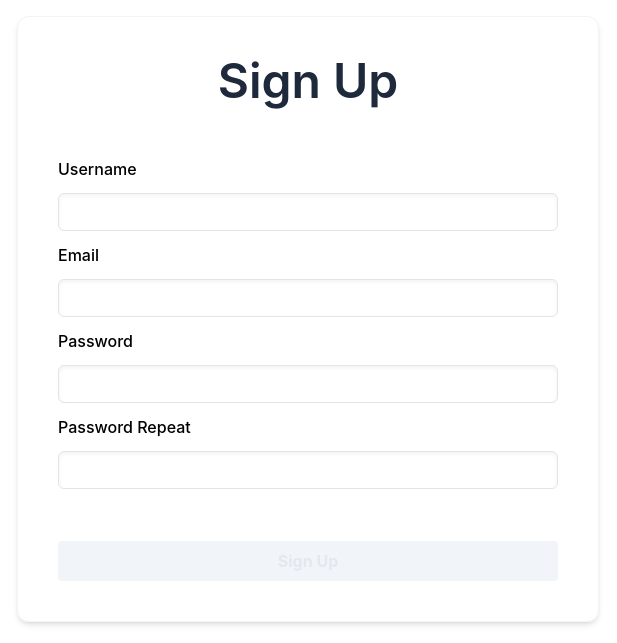
Scenario: Sign Up Page › interactions › enables the button when password and password repeat fields have same value
The image size is (617, 643).
Type "user1" into the field labelled "Username" at (308, 212), box [58,193,558,231]
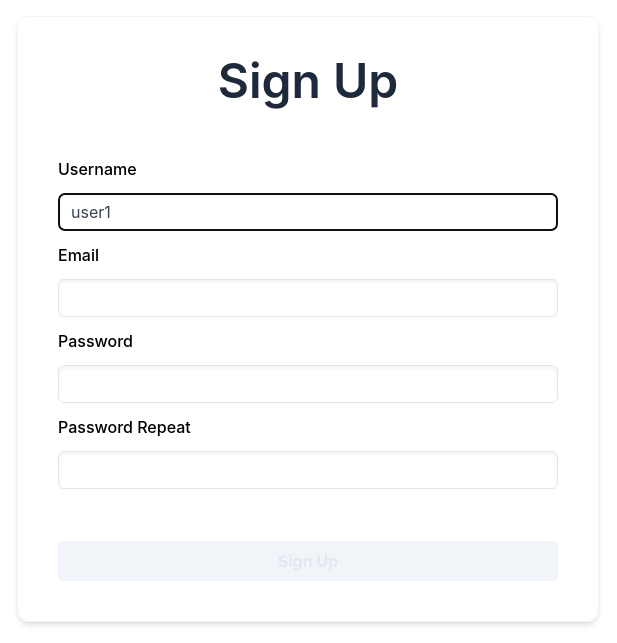
Type "224f@gmail.com" into the field labelled "Email" at (308, 298), box [58,279,558,317]
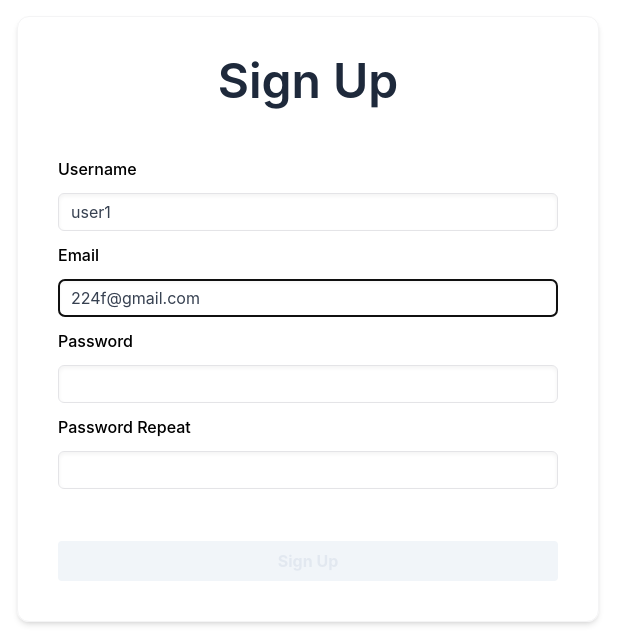
Type "Password" into the password field labelled "Password" at (308, 384), box [58,365,558,403]
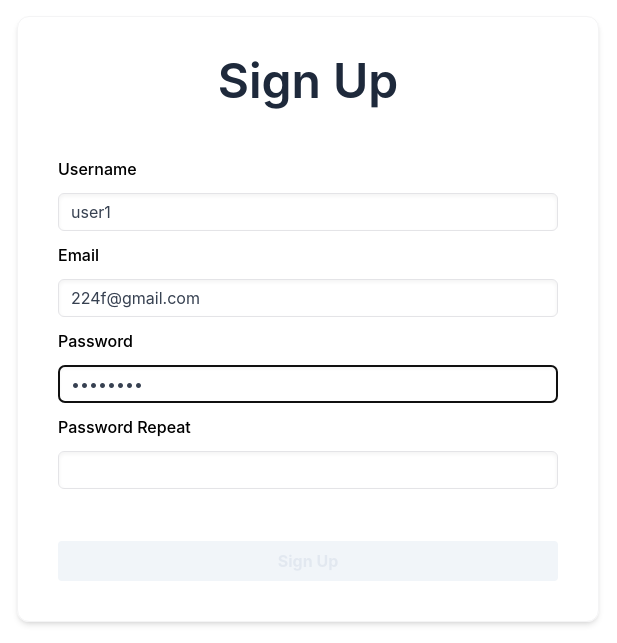
Type "Password" into the password field labelled "Password Repeat" at (308, 470), box [58,451,558,489]
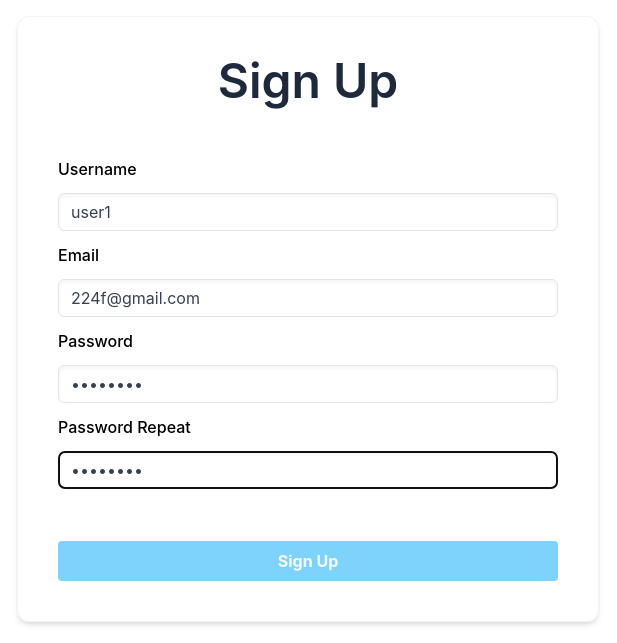
Result: the button "Sign Up" is enabled at [58,541,558,581]
